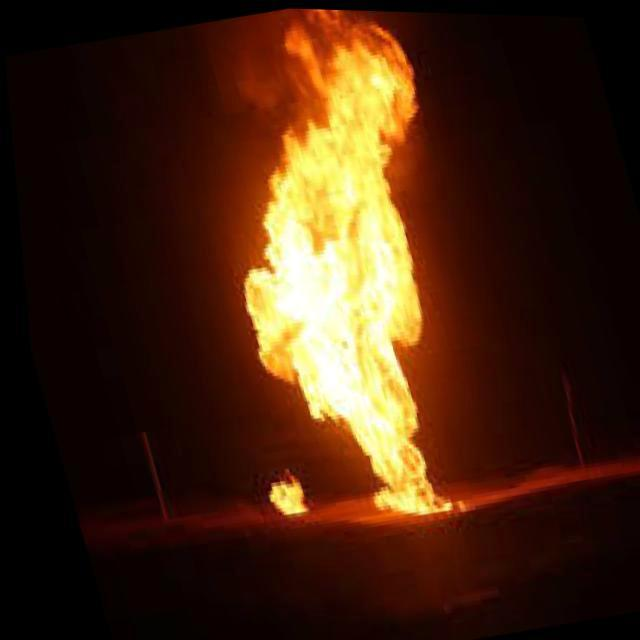fire: (146, 3, 530, 540)
